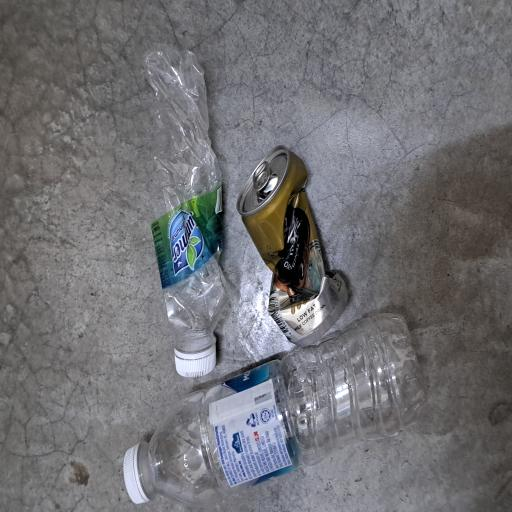can: (122, 314, 273, 464)
plastic bottle: (8, 195, 151, 512), (121, 196, 348, 292)
plastic bottle cap: (99, 216, 123, 290), (8, 163, 53, 197)
